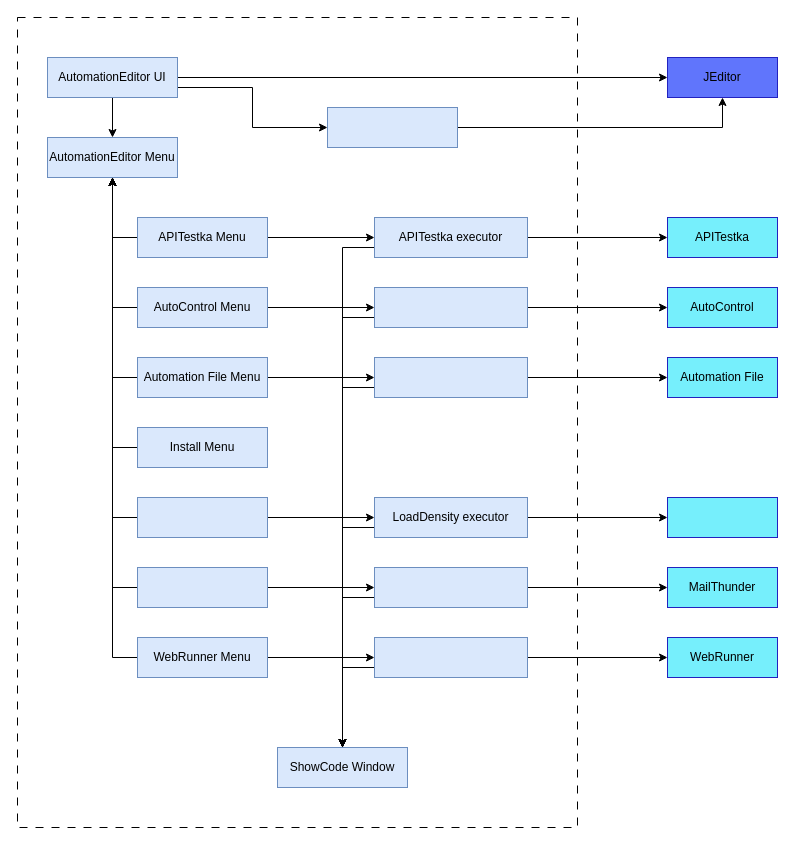
This 795x845 diagram has some shape labels left out. Here are the shapes that lost their labels. From the top down, the centre of each, then its label:
At pixel 392 127: "Syntax".
At pixel 451 307: "AutoControl executor".
At pixel 451 377: "Automation File executor".
At pixel 202 517: "LoadDensity Menu".
At pixel 722 517: "LoadDensity".
At pixel 202 587: "Mail Thunder Menu".
At pixel 451 587: "MailThunder executor".
At pixel 451 657: "WebRunner executor".
